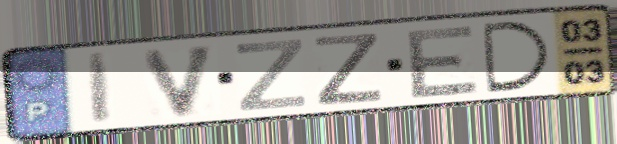D: (478, 18, 556, 96)
E: (404, 21, 483, 101)
I: (84, 50, 115, 127)
V: (139, 41, 223, 120)
Z: (233, 36, 308, 113), (312, 31, 385, 108)
